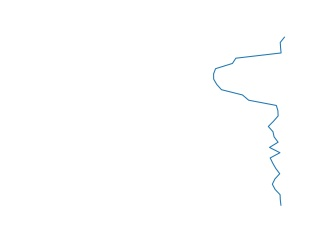distalBar: (209, 37, 288, 206)
